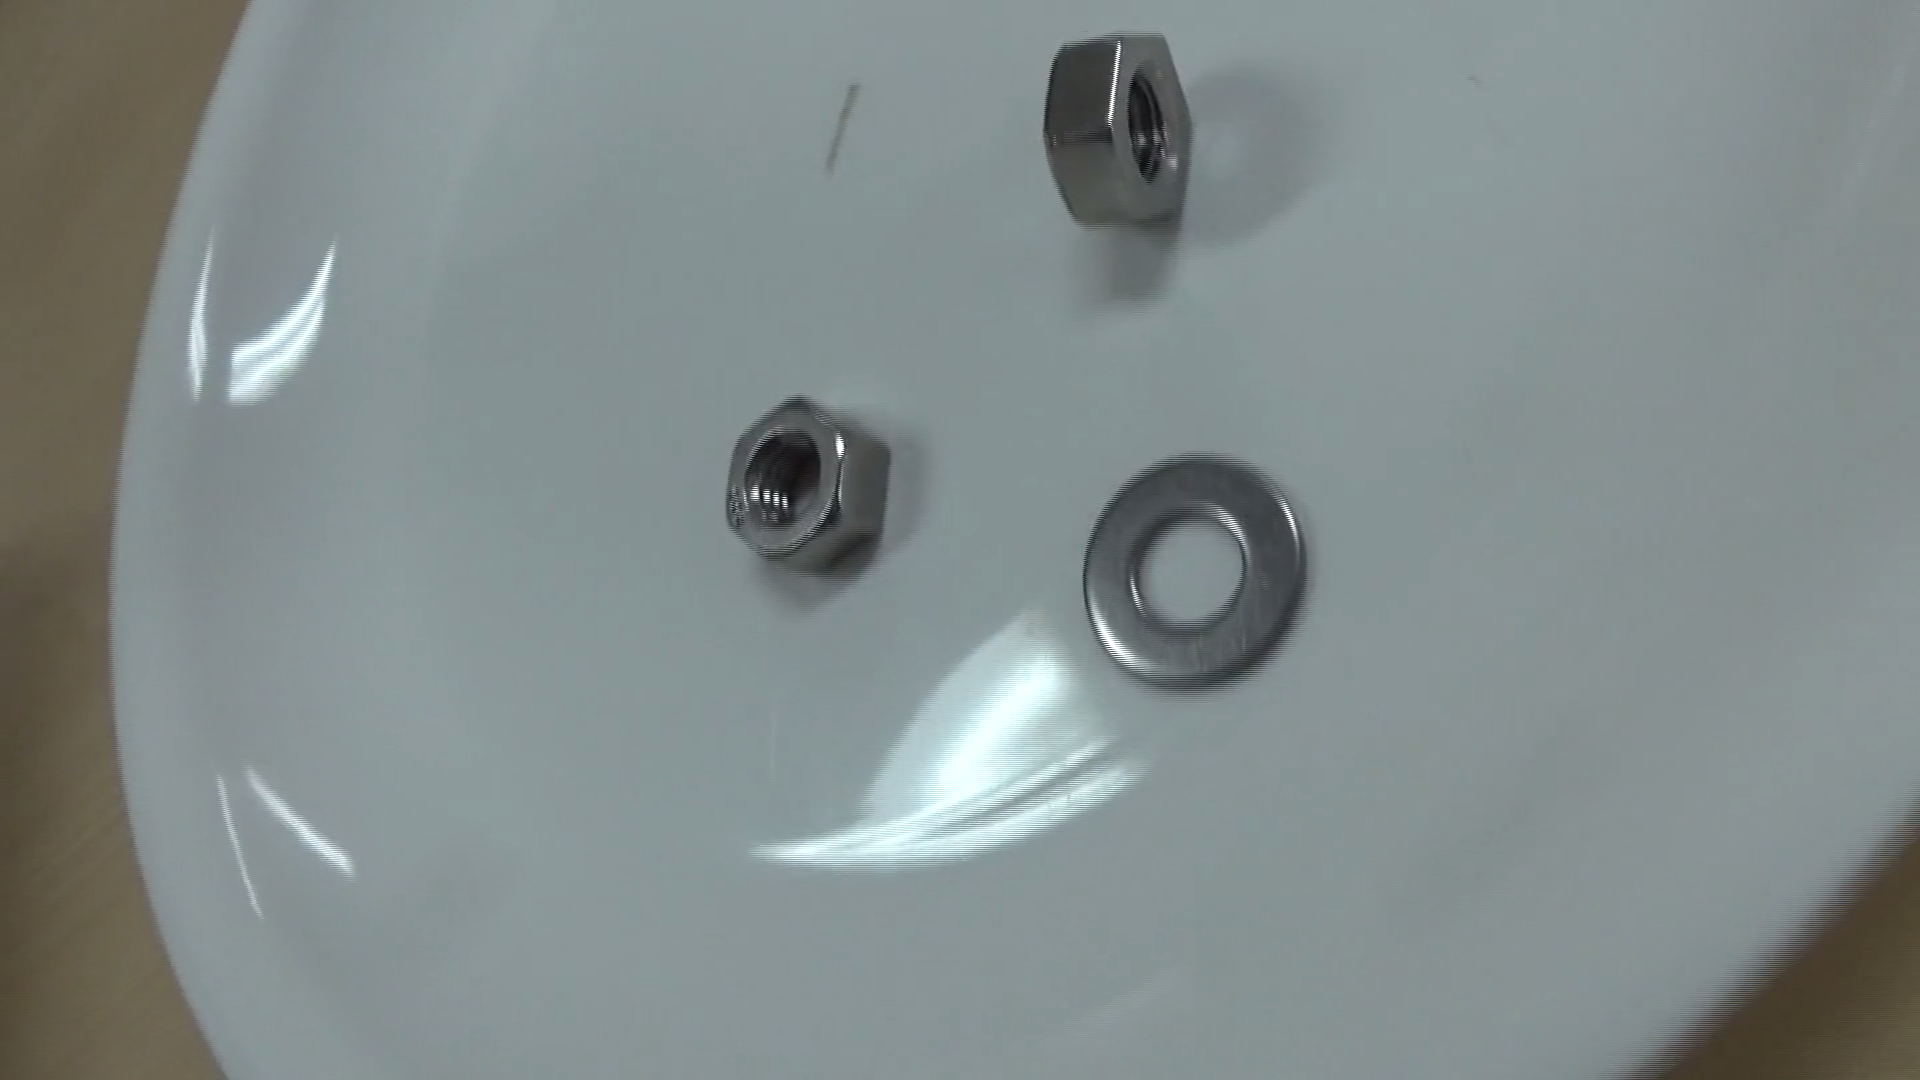nut: (1013, 15, 1240, 253), (692, 381, 903, 611)
washer: (1065, 433, 1335, 716)
